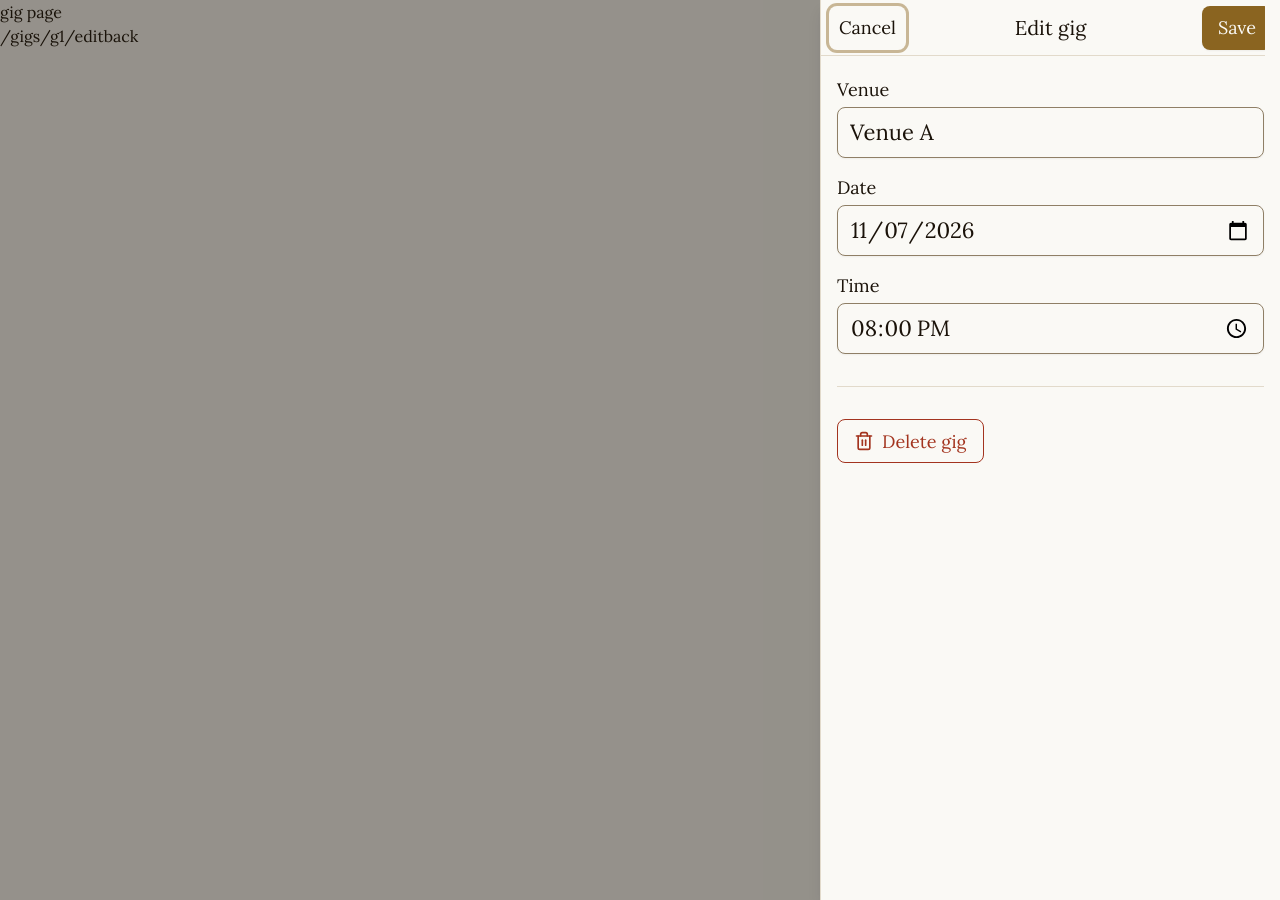
Test case: GigEdit delete › deletes on Yes, delete and goes to the gig list
This screenshot has width=1280, height=900.
Click the button "Delete gig".
click(910, 441)  # box [837,419,984,463]
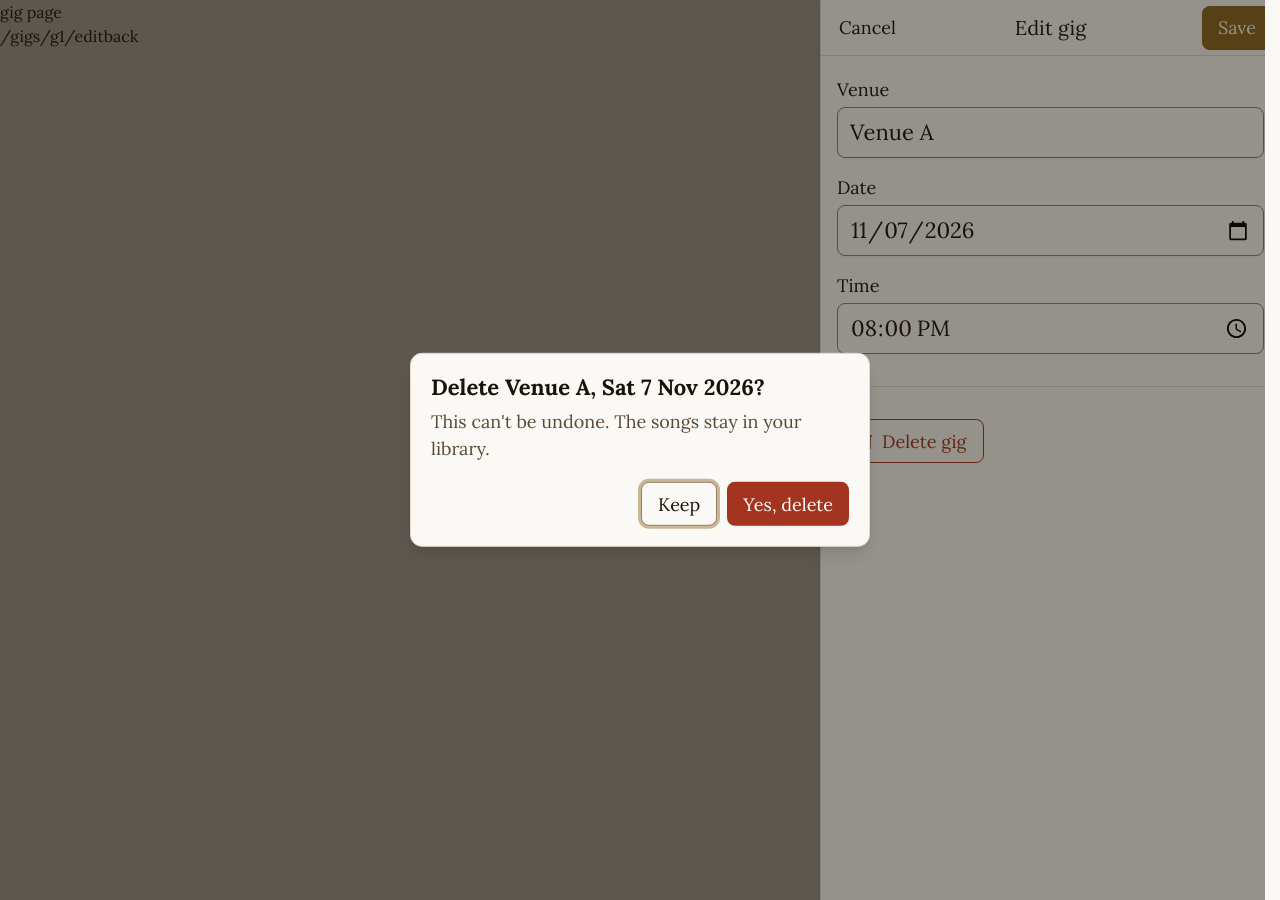
Click the button "Yes, delete".
click(788, 504)  # box [727,482,849,526]
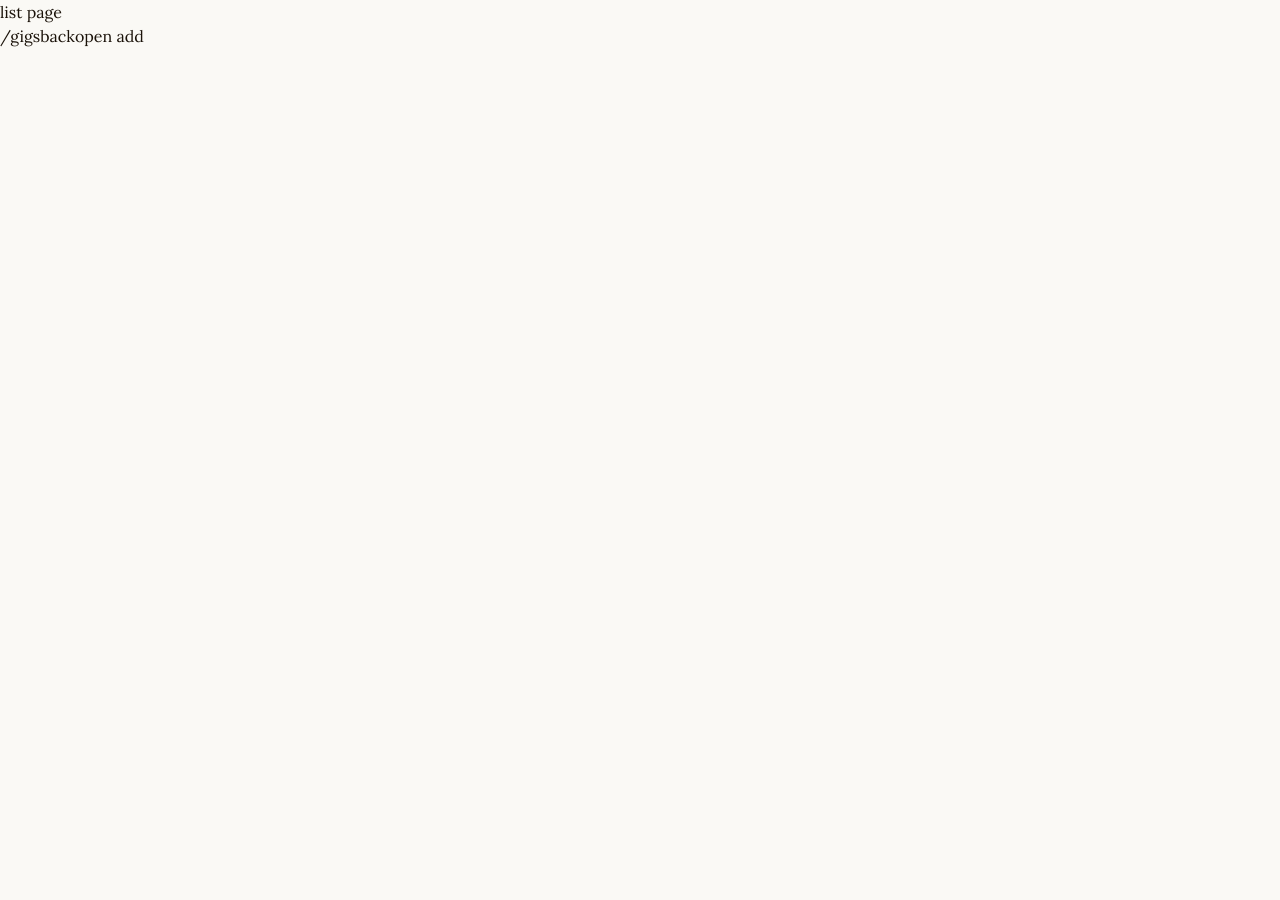
Expected: the text "list page" is shown, [0,2,62,22]
